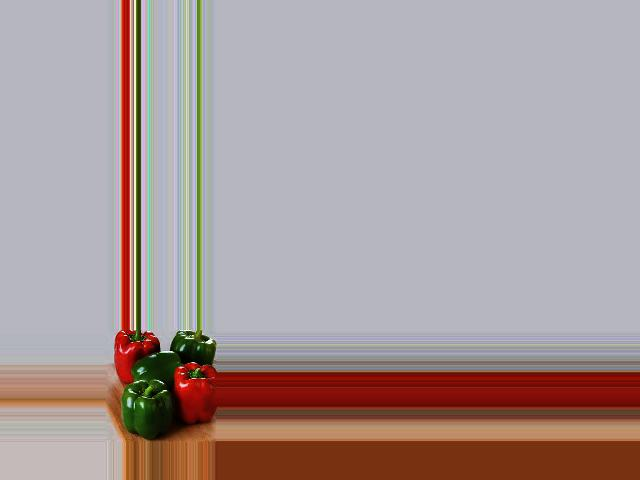bell_pepper: (170, 364, 216, 430)
